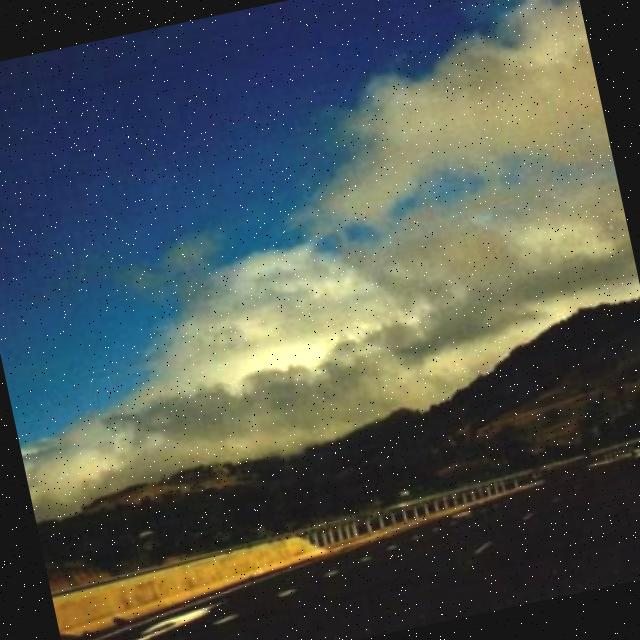Sc: (1, 1, 640, 490)
